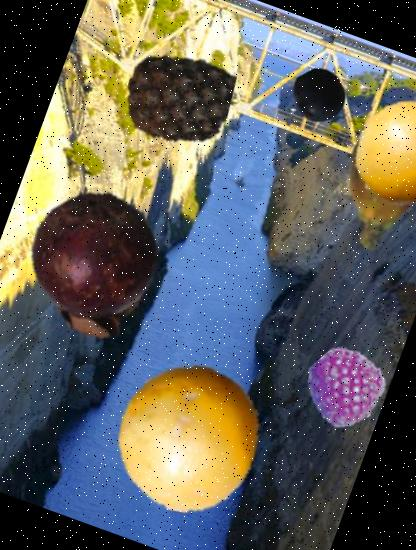Cactus: (296, 95, 416, 273)
Grape: (284, 62, 352, 130)
Grapefruit: (94, 344, 282, 532), (335, 83, 416, 225)
Mangostan: (0, 167, 186, 357)
Pineapple: (111, 32, 244, 164)
Raspberry: (296, 337, 395, 436)
